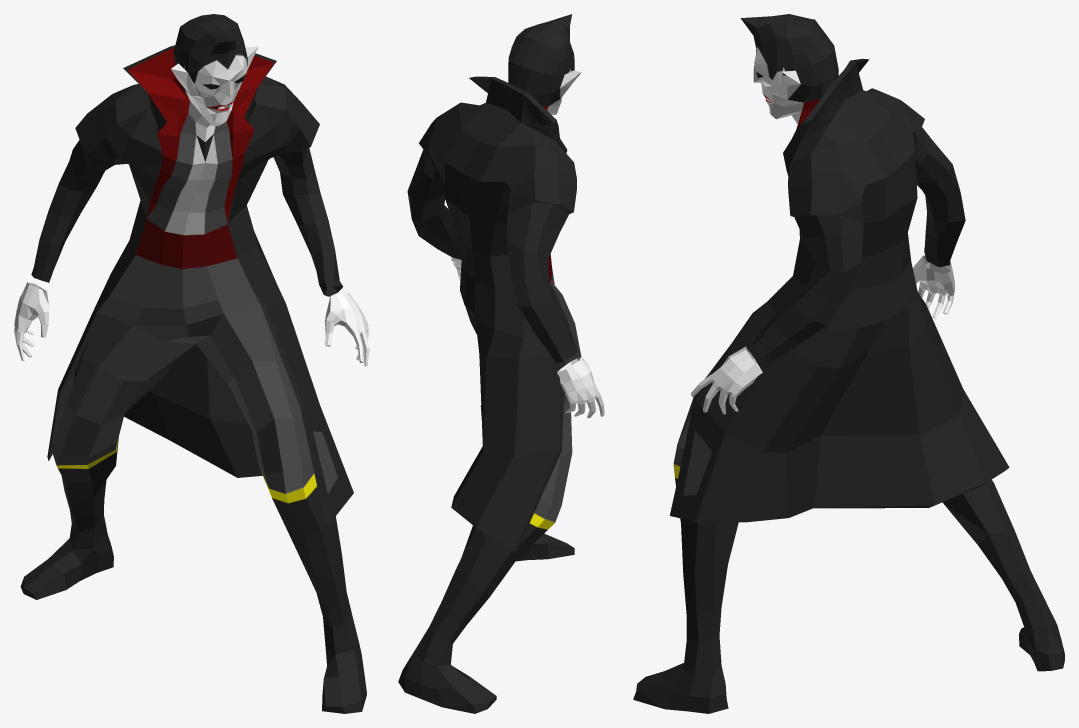
File: VampireIdle(99).obj
3 renders of one model, left to right at view 1: azimuth 30°, elevation 25°; view 2: azimuth 150°, elevation 25°; view 3: azimuth 270°, elevation 25°, orthographic. The views are drawn at different scales.
Visible parts, largest first — view 1: Plane002; view 2: Plane002; view 3: Plane002.
Boxes of the visible parts, x1,y1,x2,y2 form: Plane002: (14,14,369,713); Plane002: (398,14,604,713); Plane002: (633,14,1064,713).
Size of the model in its own units: 126 by 306 by 185.
